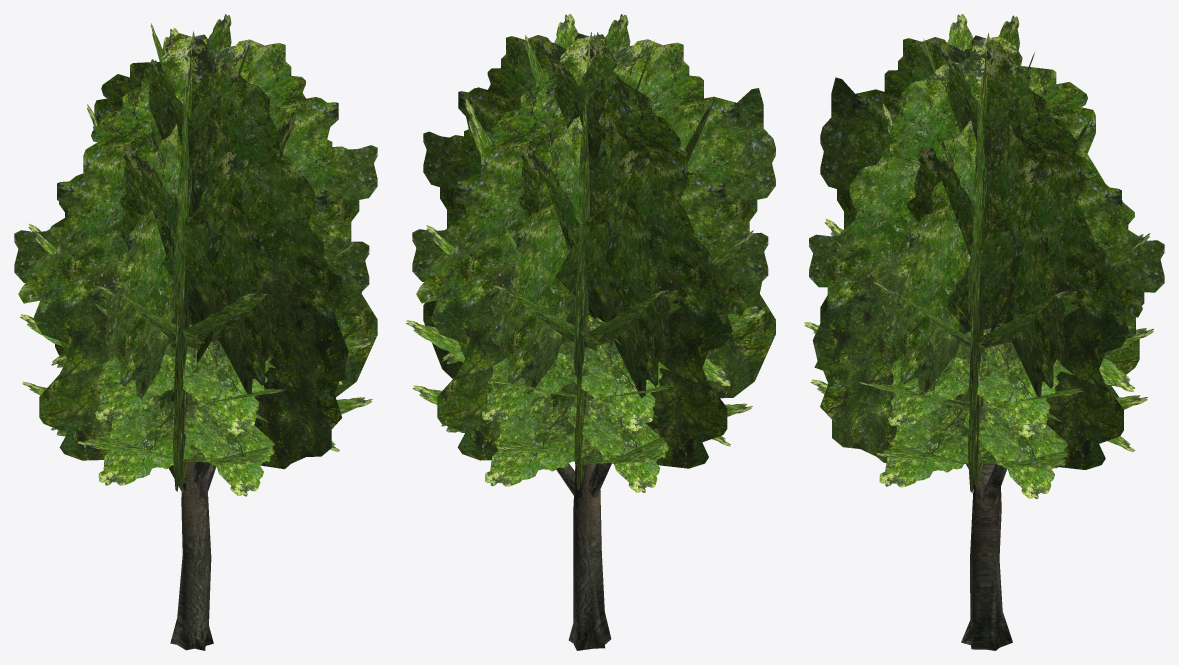
Rendered from tree3.dae.
3 renders of one model, left to right at view 1: azimuth 30°, elevation 25°; view 2: azimuth 150°, elevation 25°; view 3: azimuth 270°, elevation 25°, orthographic.
Parts seen in each view (by area): view 1: boomkroon (×21), Tree; view 2: boomkroon (×25), Tree; view 3: boomkroon (×23), Tree, group_0.
Boxes of the visible parts, box(x1,y1,x2,y2) form: boomkroon (×21): box(14, 14, 377, 496); Tree: box(170, 461, 213, 650); boomkroon (×25): box(406, 14, 775, 492); Tree: box(568, 463, 611, 650); boomkroon (×23): box(809, 14, 1164, 498); Tree: box(961, 463, 1012, 650); group_0: box(982, 464, 1006, 506).
Size of the model in its own units: 273 by 250 by 469.
Materials: 2 (2 with a texture image).
